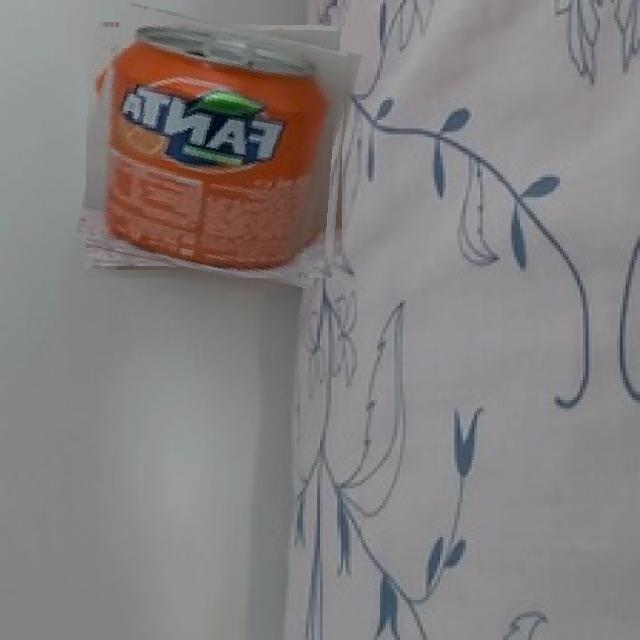recyclable: (86, 13, 351, 278)
